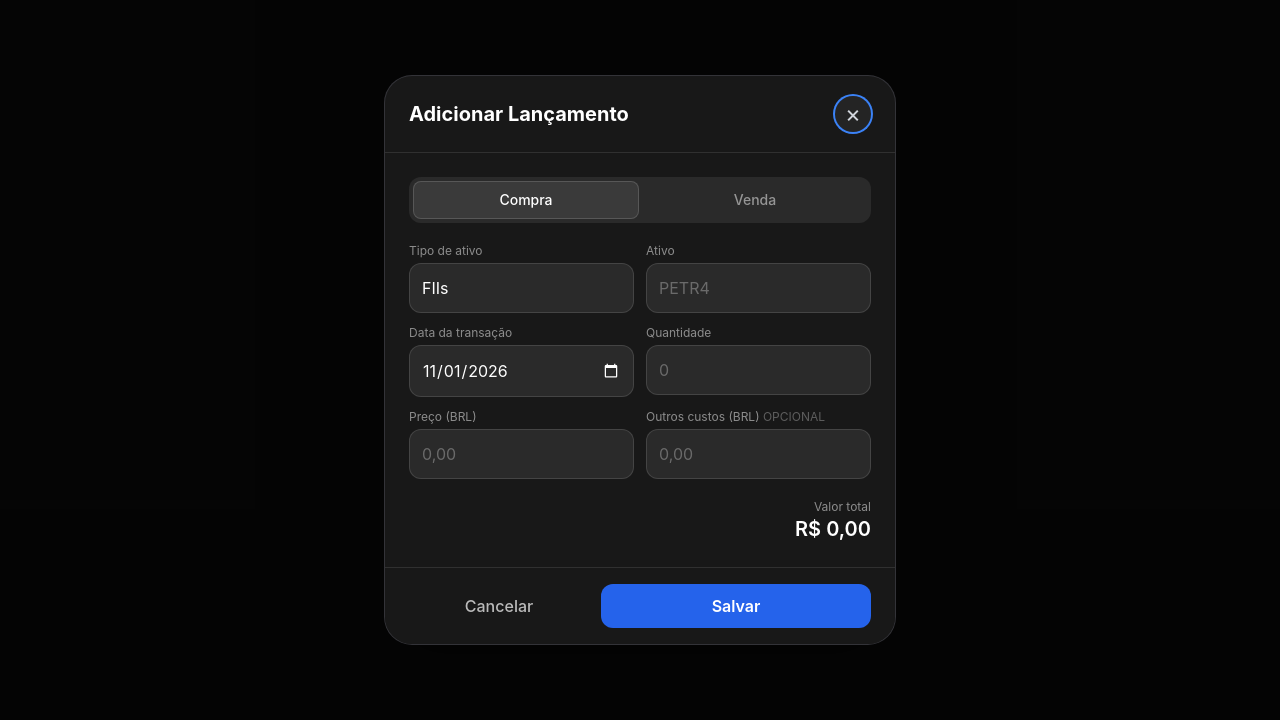
Scenario: não transforma preço vazio em compra a preço zero
Type "RADL3" into the dropdown labelled "Ativo". click: (758, 288)
box: [646,263,871,313]
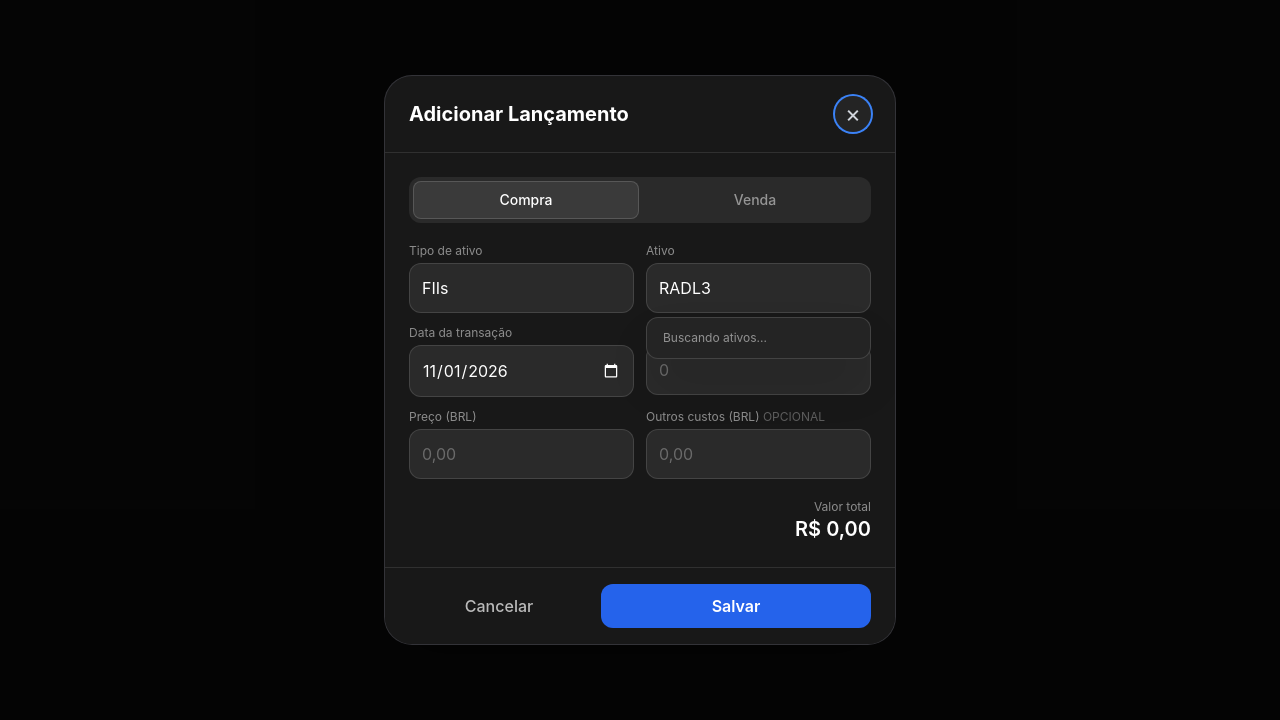
Type "1" into the number field labelled "Quantidade". click: (758, 370)
box: [646,345,871,395]
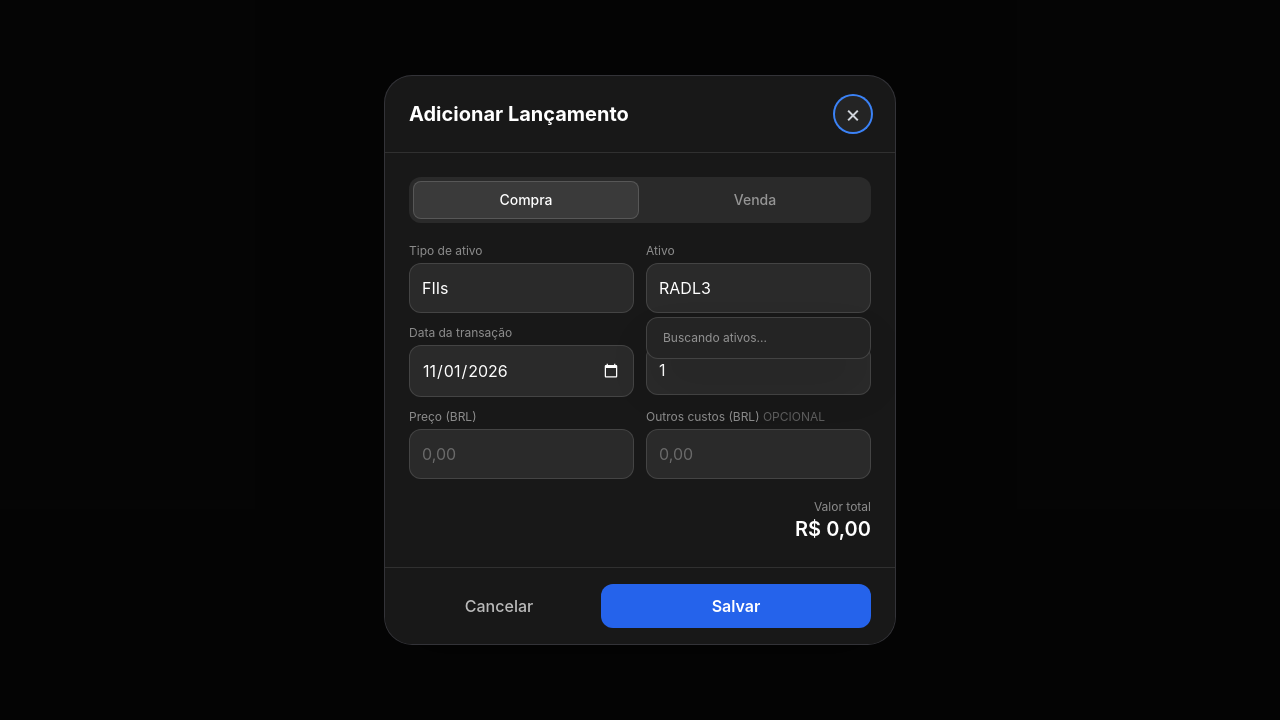
Submit the form, box [409,177,871,543]
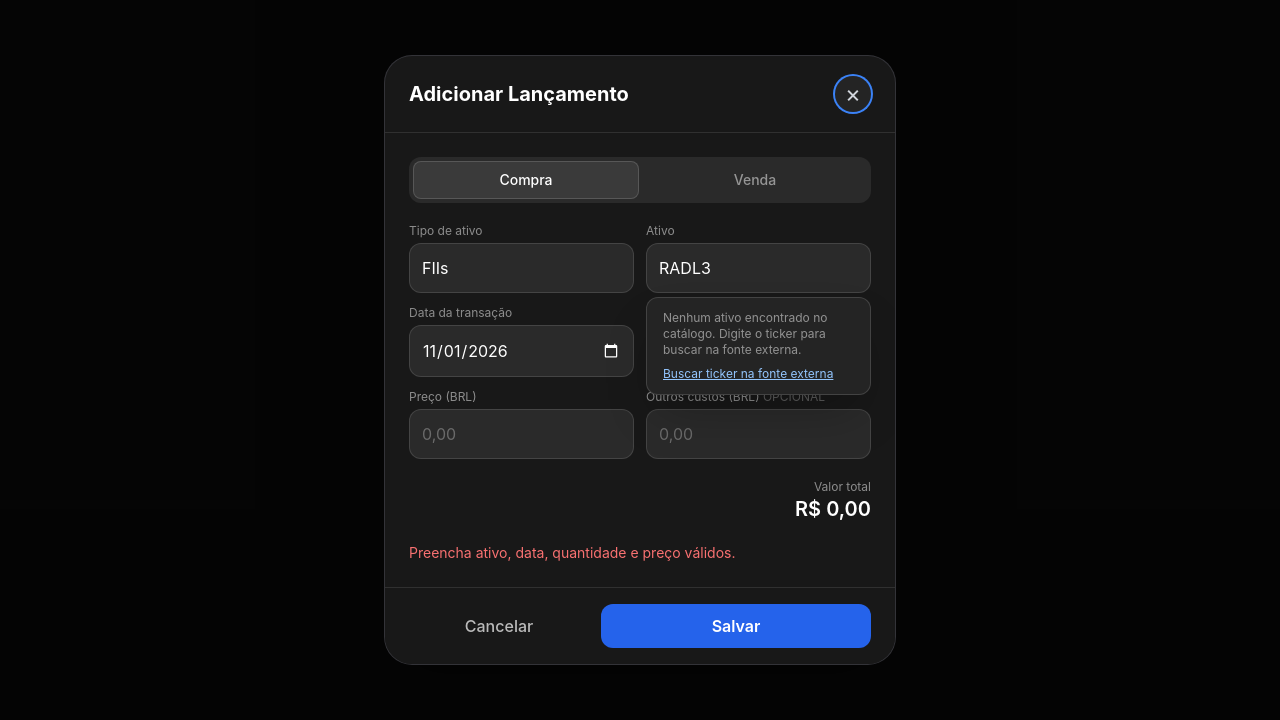
Result: the text "Preencha ativo, data, quantidade e preço válidos." is shown at [409,544,736,561]
